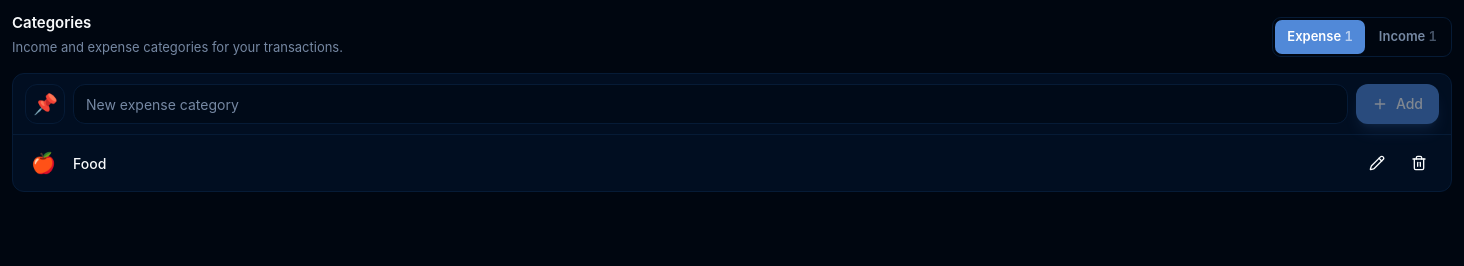
it: filters categories and creates an income category from the selected tab
The width and height of the screenshot is (1464, 266).
Check: the text "Food" is shown, box [73,154,106,172]
Check: the text "Salary" is not shown
Click the button "income 1" at (1408, 37), box [1367,20,1449,54]
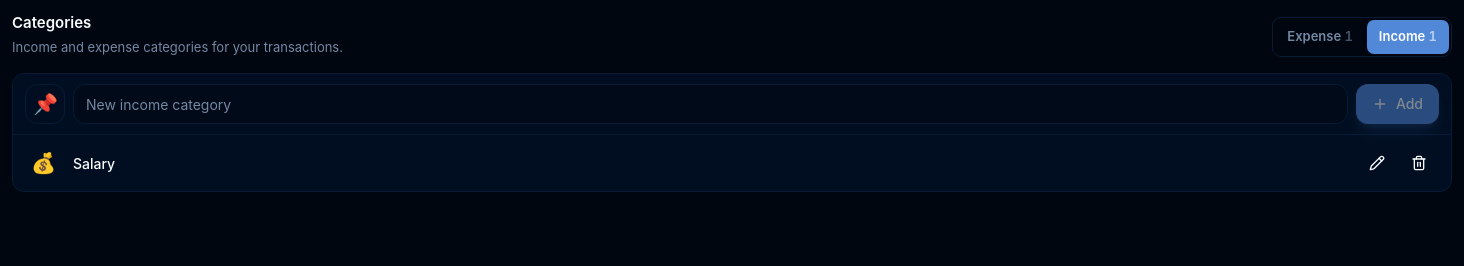
Check: the text "Salary" is shown, box [73,154,115,172]
Type "Bonus" into the field named "New category name" at (710, 104), box [73,84,1348,124]
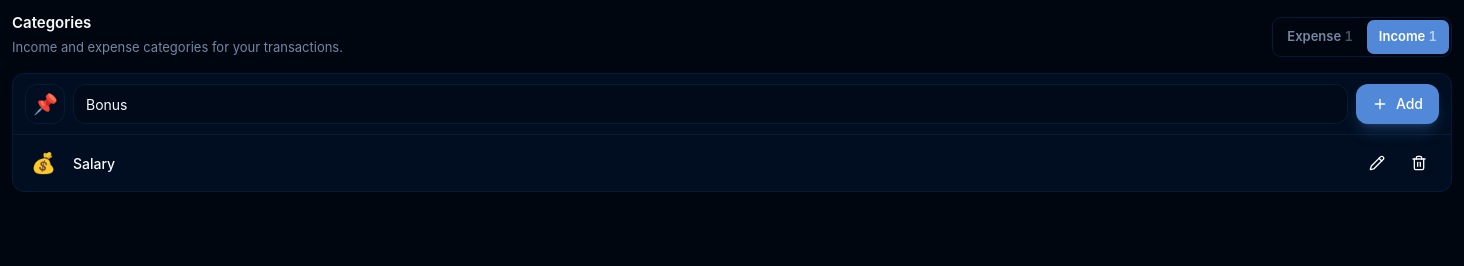
Click the button "Add" at (1397, 104), box [1356,84,1439,124]
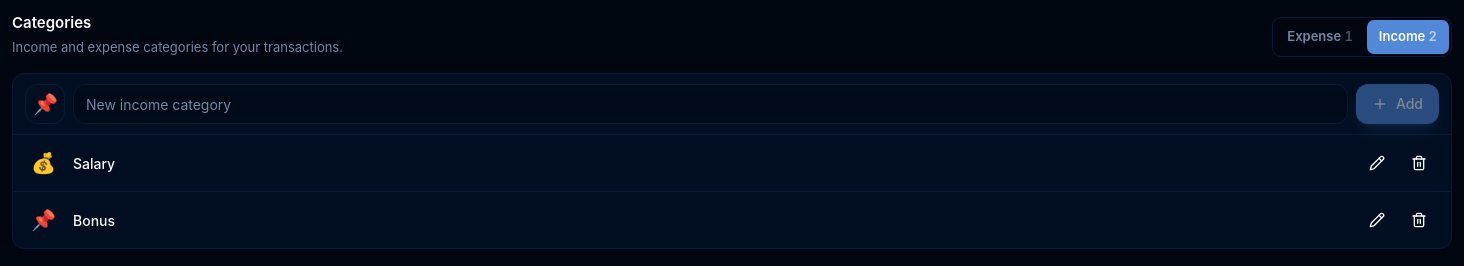
Check: the text "Bonus" is shown, box [73,212,115,228]
Check: the field named "New category name" is empty, box [73,84,1348,124]
